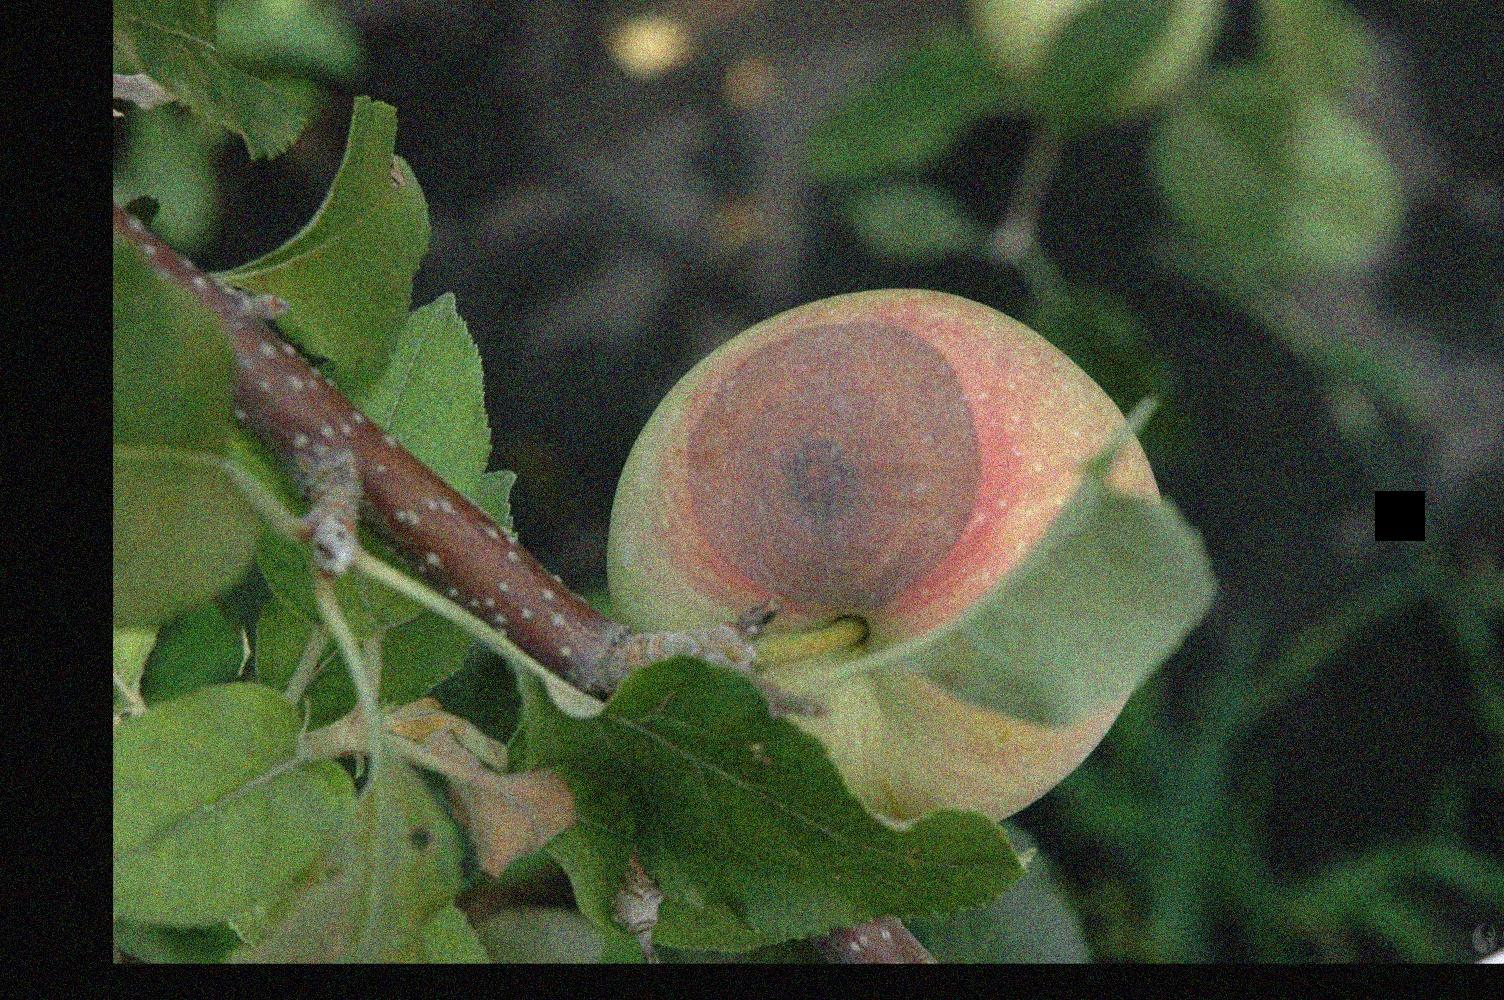rotten apple: (609, 287, 1180, 829)
